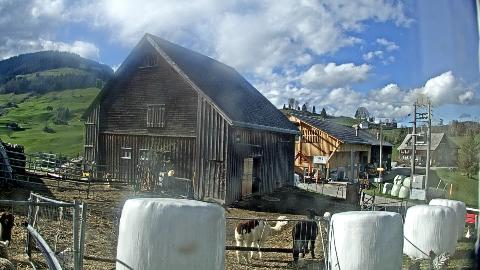car: (418, 161, 426, 167)
sheep: (234, 216, 289, 266), (292, 208, 318, 264), (0, 212, 15, 248), (0, 240, 16, 270), (106, 172, 122, 188), (251, 177, 261, 193), (322, 212, 334, 221)
